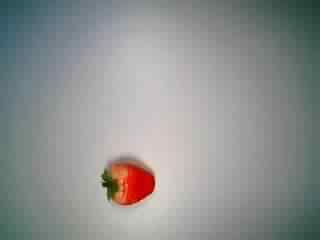strawberry: (93, 146, 159, 212)
